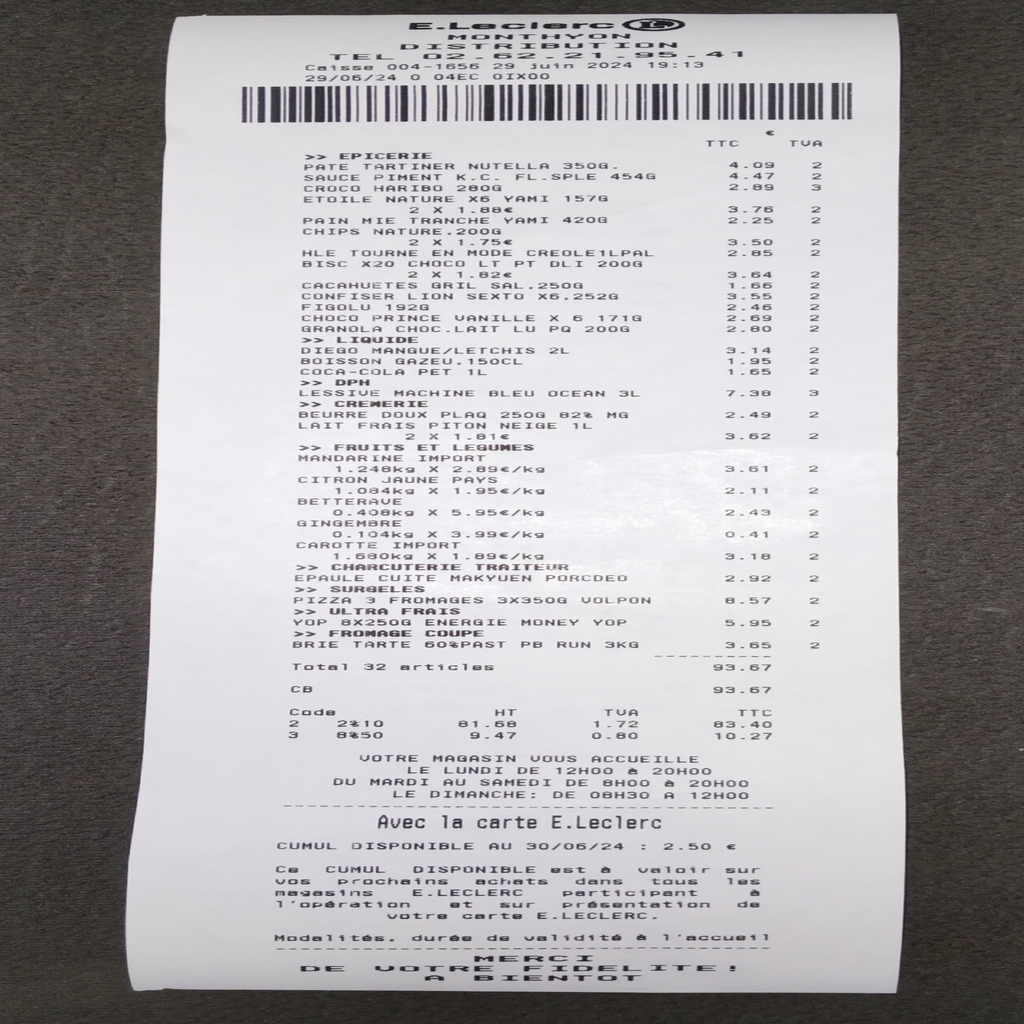recipt: (122, 13, 911, 995)
